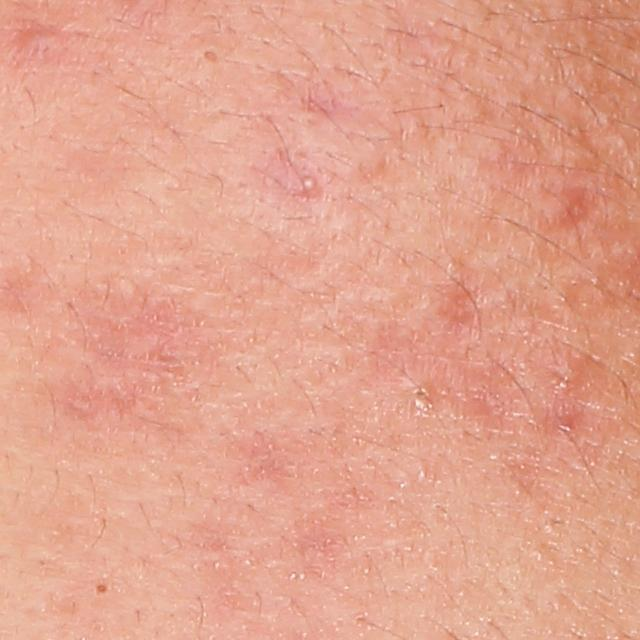comedo: (404, 380, 435, 410)
papule: (8, 23, 75, 67)
